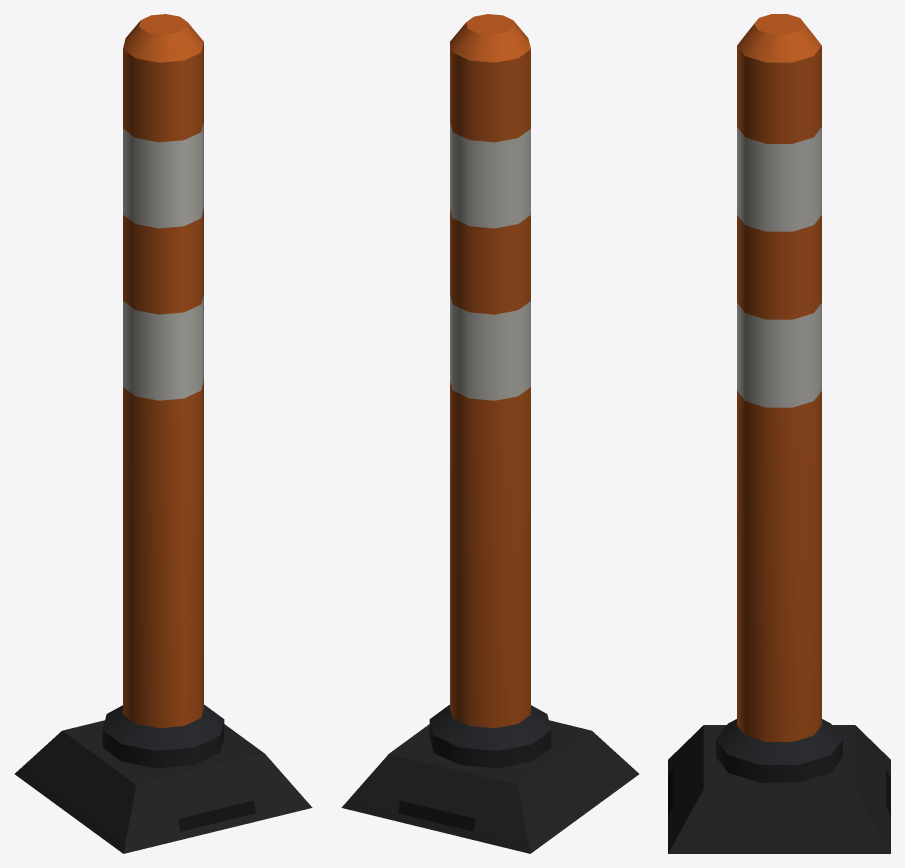
File: sign.warning.marker.glb
3 renders of one model, left to right at view 1: azimuth 30°, elevation 25°; view 2: azimuth 150°, elevation 25°; view 3: azimuth 270°, elevation 25°, orthographic. The views are drawn at different scales.
Visible parts, largest first — view 1: sign_warning_marker; view 2: sign_warning_marker; view 3: sign_warning_marker.
Part boxes in pixels (left/top/right/bottom): sign_warning_marker: left=14, top=14, right=312, bottom=853; sign_warning_marker: left=341, top=14, right=639, bottom=853; sign_warning_marker: left=668, top=14, right=890, bottom=853.
Size of what is drawn, in the model's own units: 0.284 by 1.1 by 0.284.
